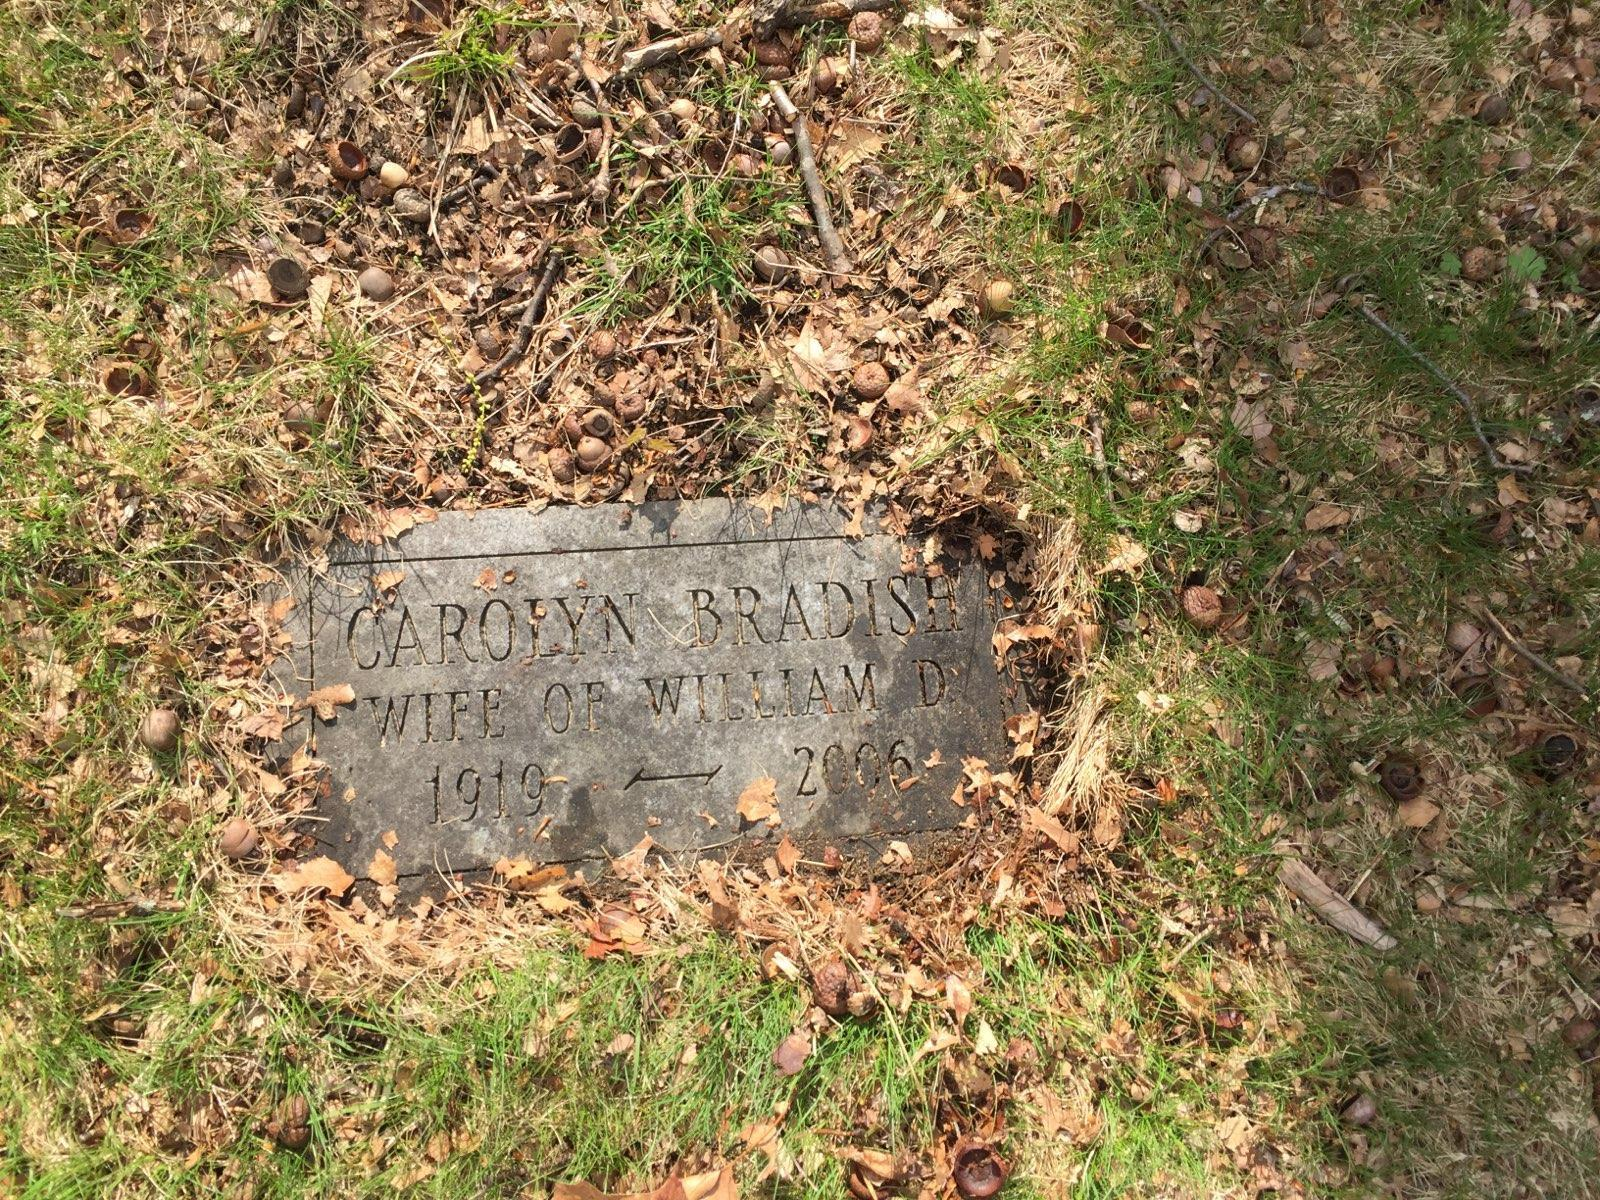flat: (215, 494, 1042, 905)
